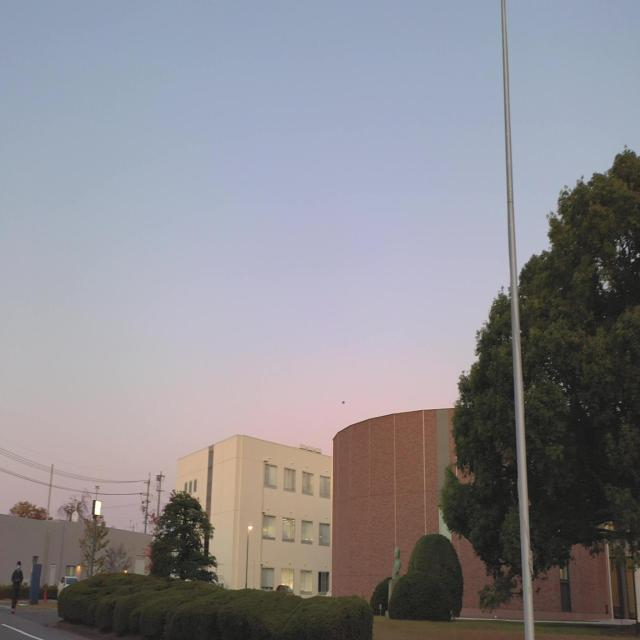Birds: (339, 397, 347, 405)
